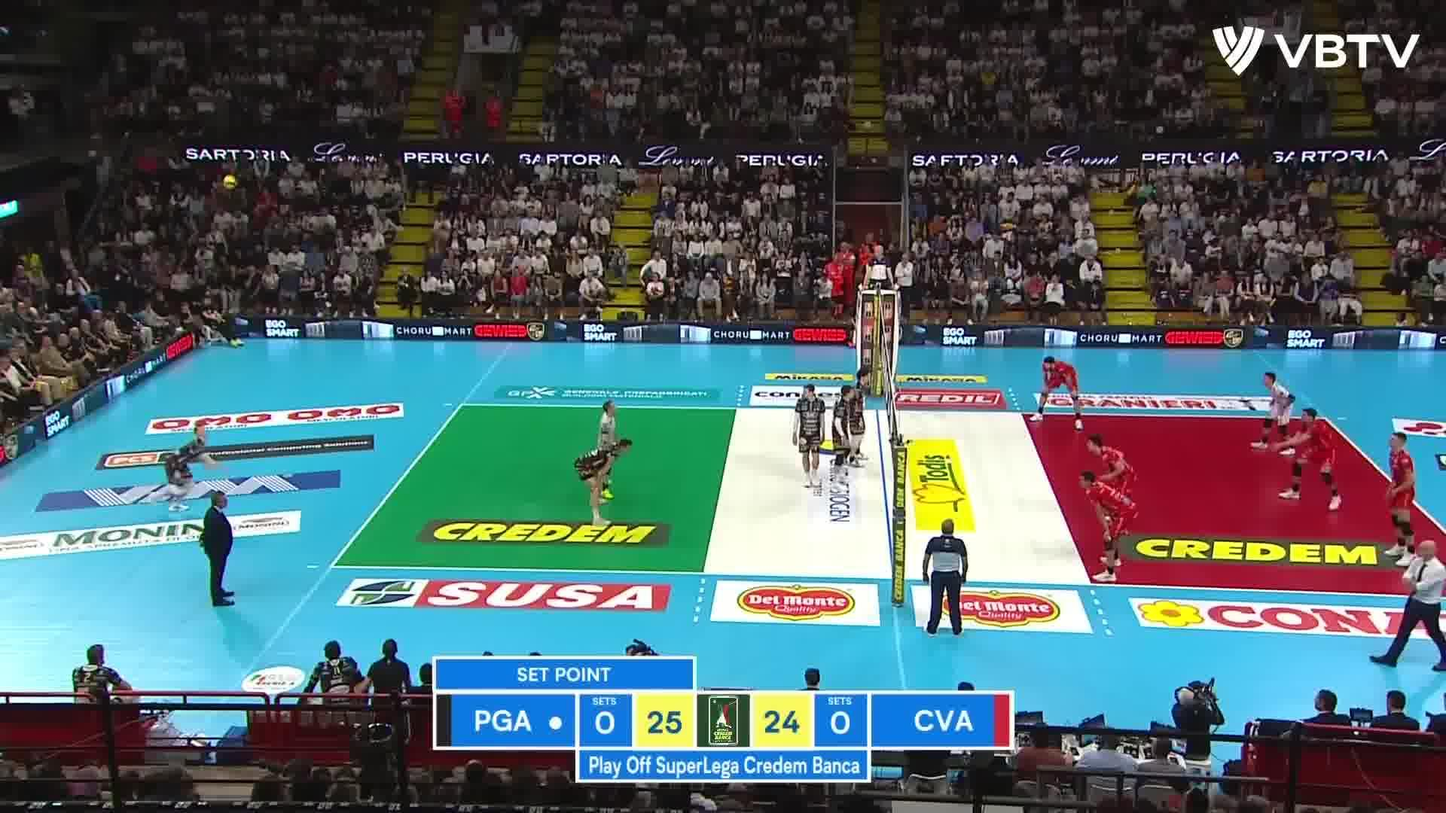balls: (222, 174, 237, 190)
